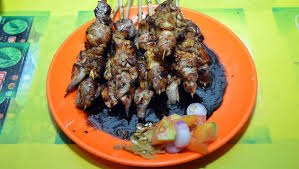sate: (64, 2, 266, 139)
